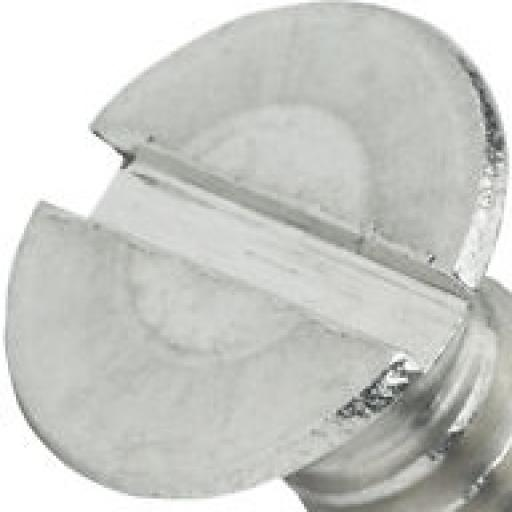Slotted: (5, 9, 509, 497)
